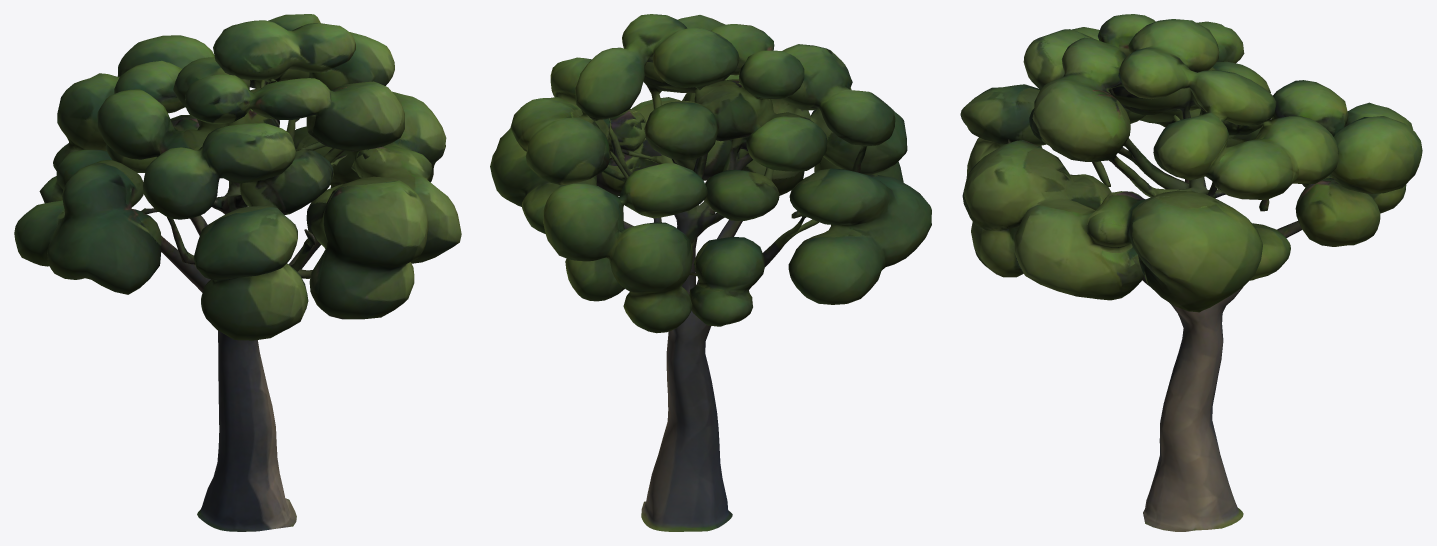
The model's file is Tree002.glb.
The picture shows the model from 3 angles, left to right: view 1: azimuth 30°, elevation 25°; view 2: azimuth 150°, elevation 25°; view 3: azimuth 270°, elevation 25°; orthographic projection. The views are drawn at different scales.
Visible parts, largest first — view 1: Tree002; view 2: Tree002; view 3: Tree002.
Part boxes in pixels (x1,y1,x2,y2): Tree002: (14, 14, 461, 531); Tree002: (490, 14, 931, 531); Tree002: (960, 14, 1422, 531).
Bounding box in the file's own units: 1.62 × 1.87 × 1.6.
Materials: 1 (1 with a texture image).
